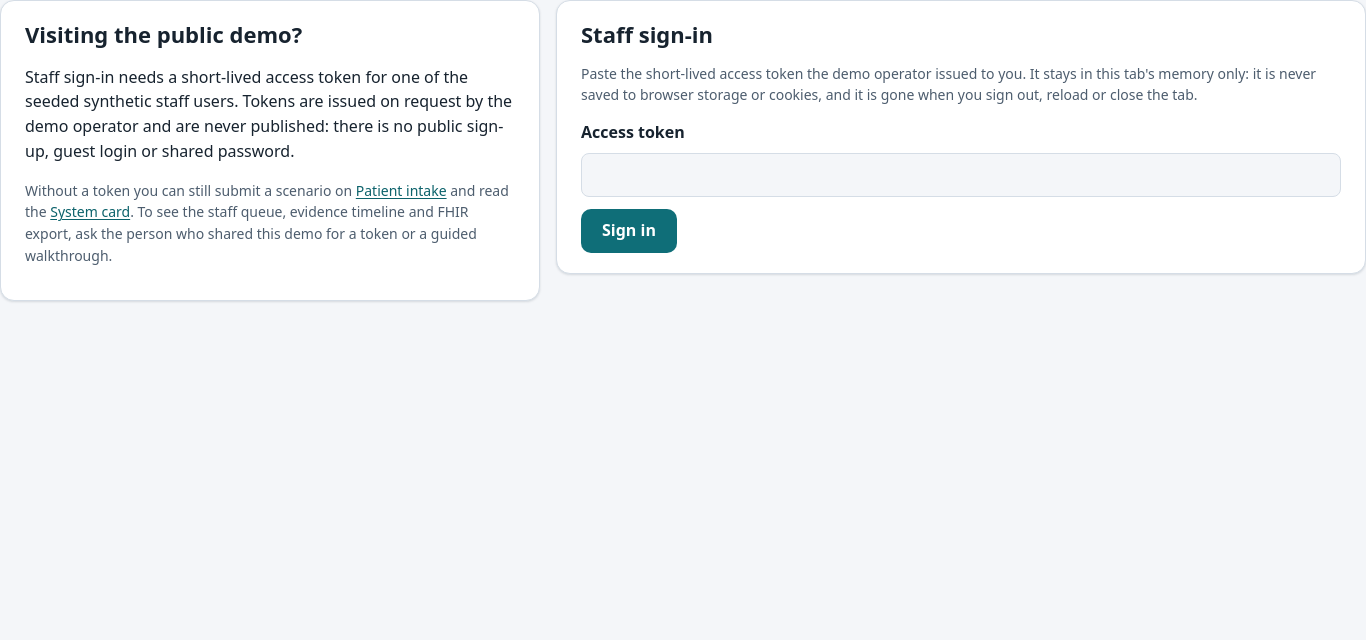
StaffReview detail and transitions › transitions needs_review -> reviewed and cannot transition again
Step 1. Type "v1.payload.signature" into the password field labelled "Access token" → (961, 175), box 581,153 -> 1341,197
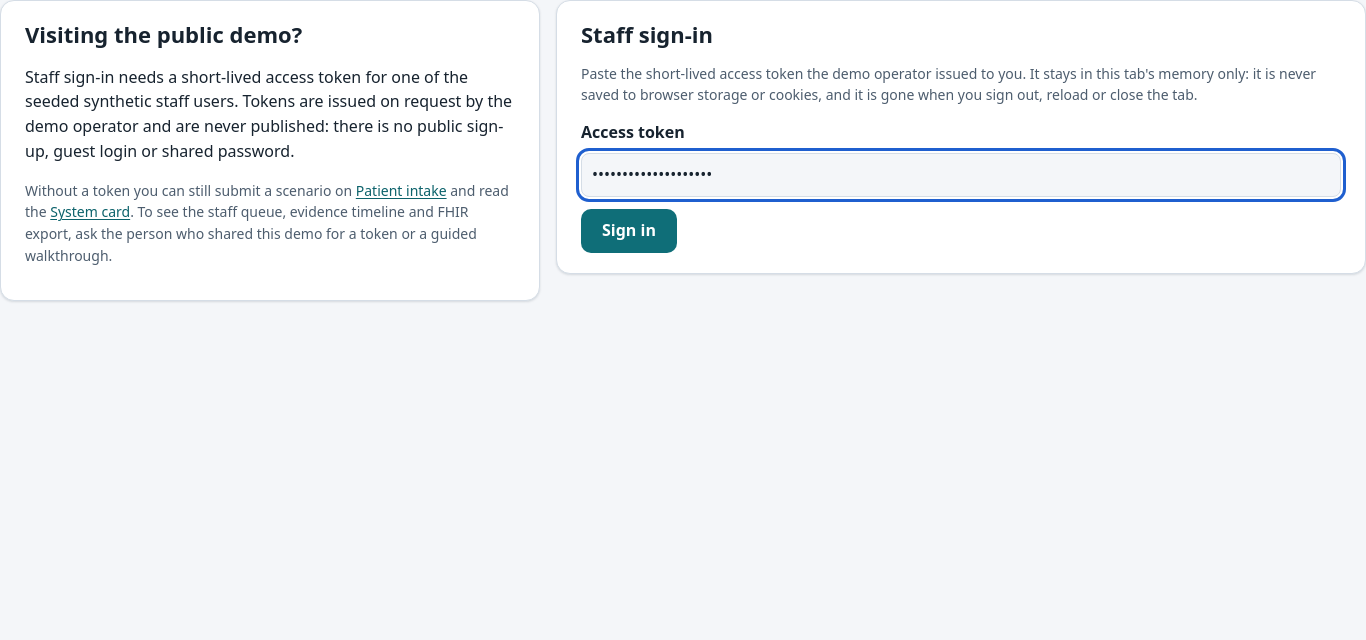
Step 2. Click the button "Sign in" → (629, 231), box 581,209 -> 677,253
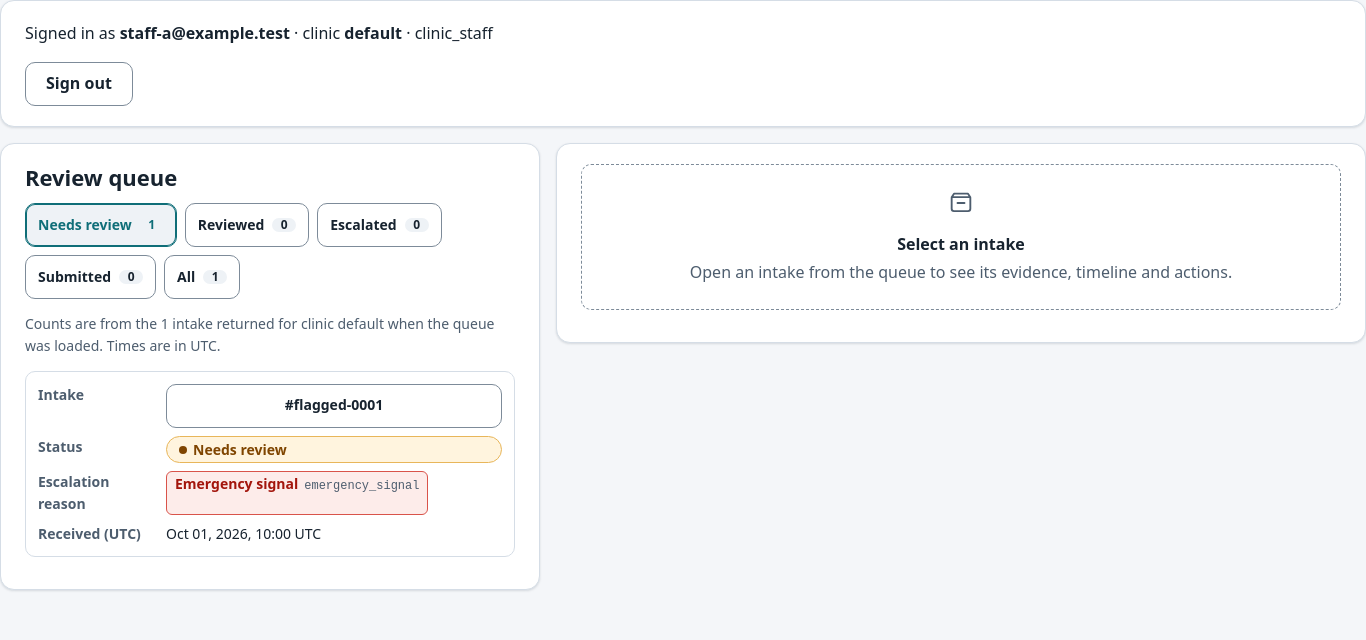
Step 3. Click the button with aria-label "Open " → (334, 406), box 166,384 -> 502,428
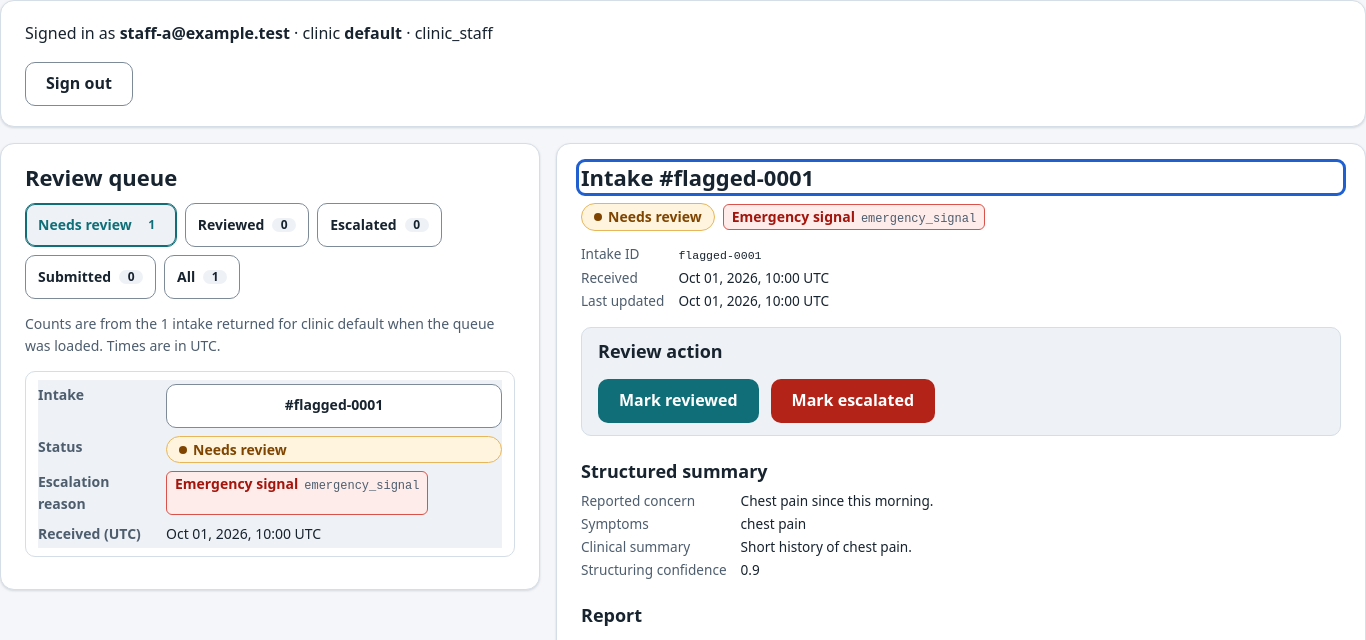
Step 4. Click the button "Mark reviewed" → (678, 400), box 598,378 -> 759,422
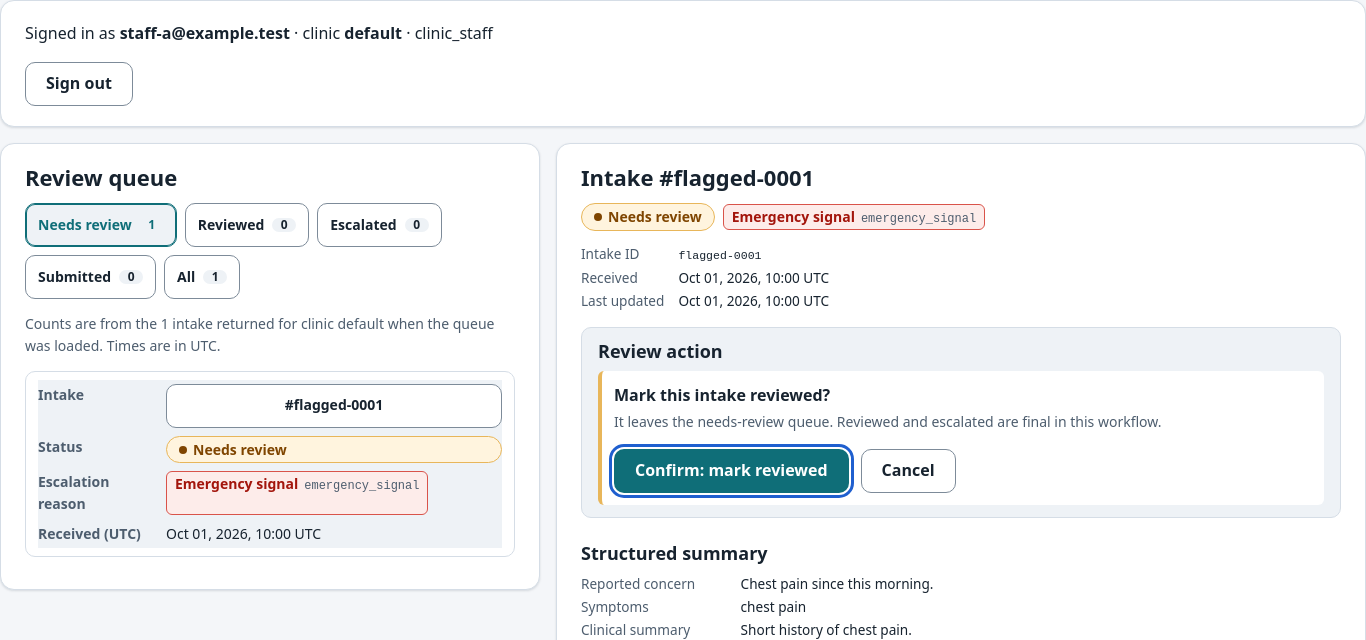
Step 5. Click the button "Confirm: mark reviewed" → (731, 471), box 614,449 -> 849,493
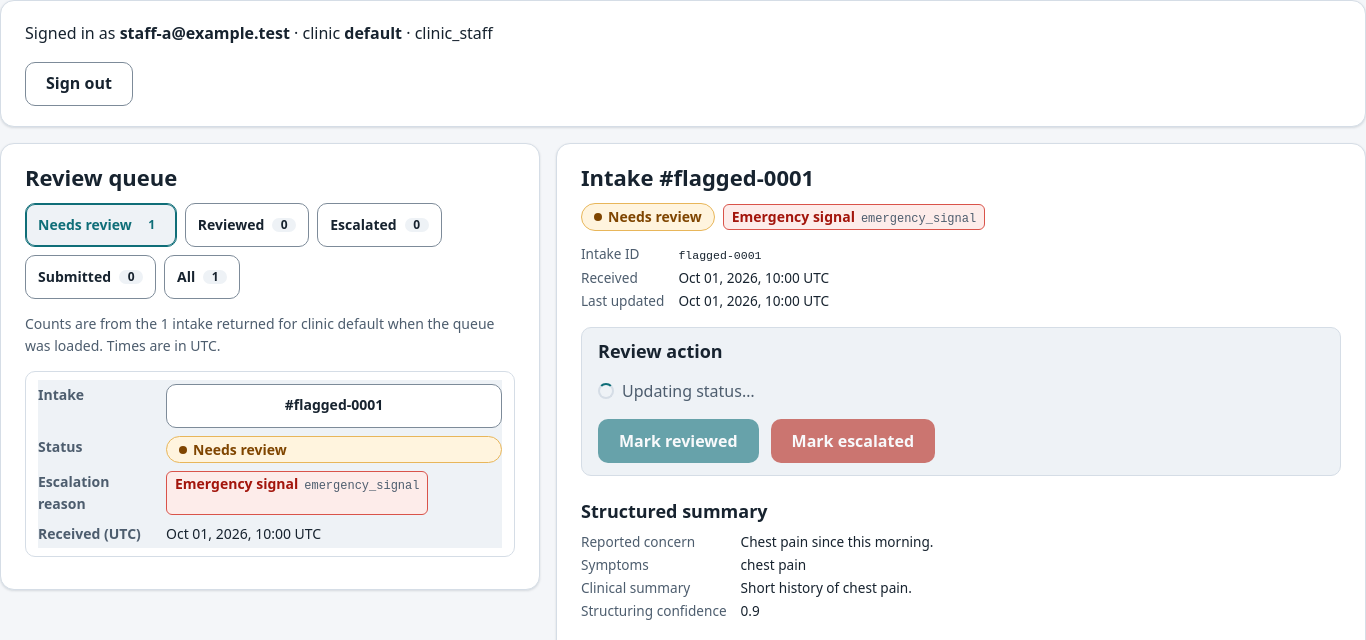
expect the text "Updating status…" is shown: met, box 598,380 -> 754,402
expect the button "Mark reviewed" is disabled: met
expect the button "Mark escalated" is disabled: met, box 771,419 -> 935,463
Step 6. Click the button "Mark reviewed" → (678, 441), box 598,419 -> 759,463
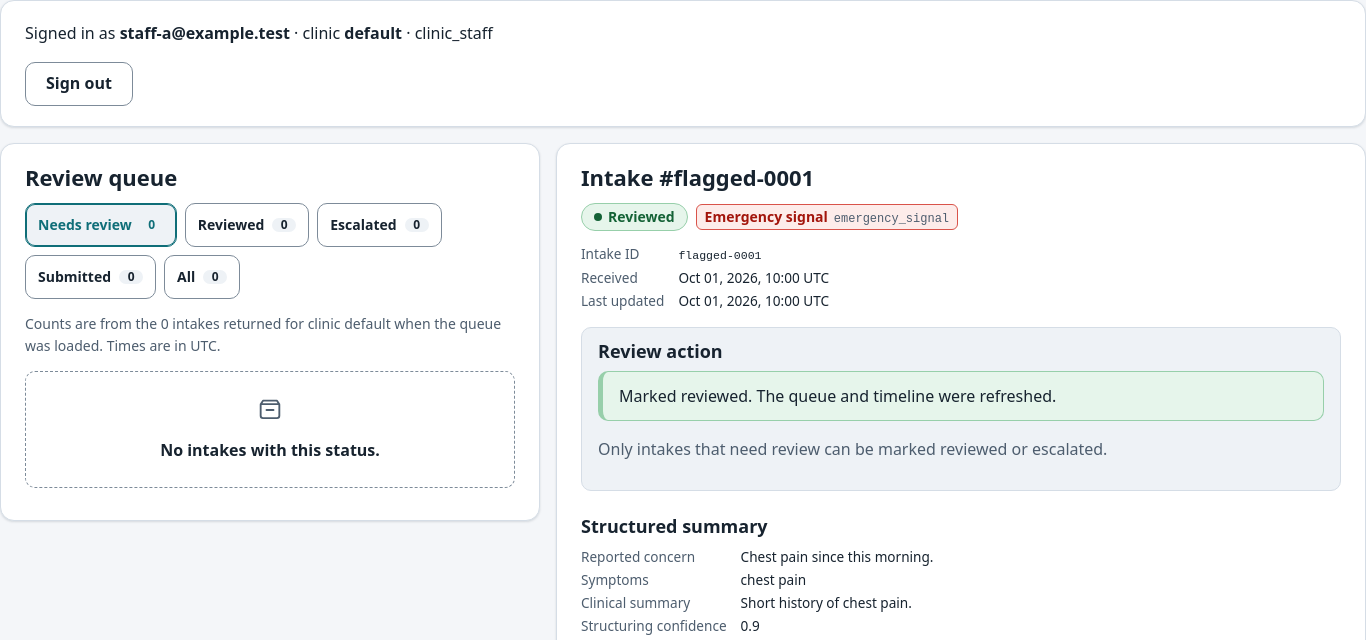
expect the text "Marked reviewed. The queue and timeline were refreshed." is shown: met, box 598,370 -> 1324,421
expect the element with test id "detail-status" shows "Reviewed": met, box 608,207 -> 675,226
expect the text "No intakes with this status." is shown: met, box 160,440 -> 380,462
